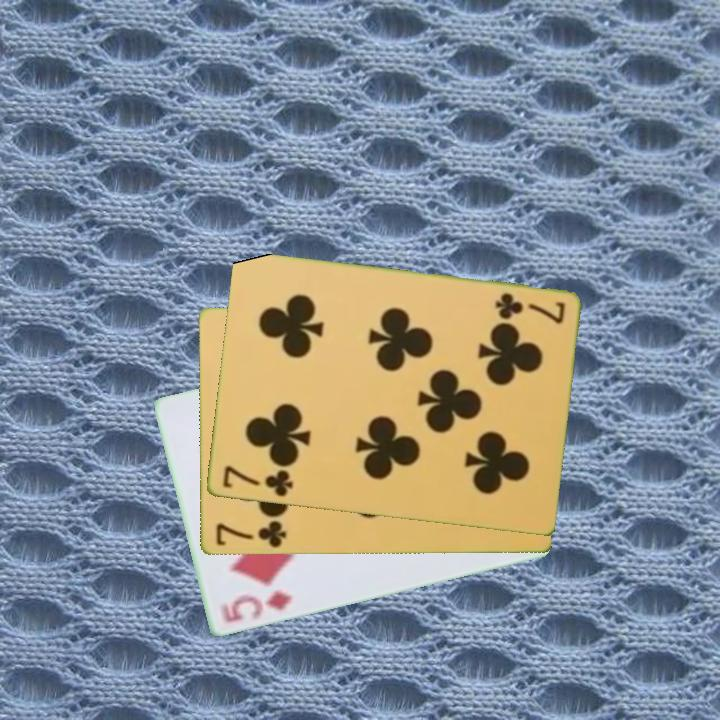5d: (216, 587, 295, 626)
7c: (491, 289, 568, 327), (219, 463, 296, 500), (213, 518, 289, 552)
